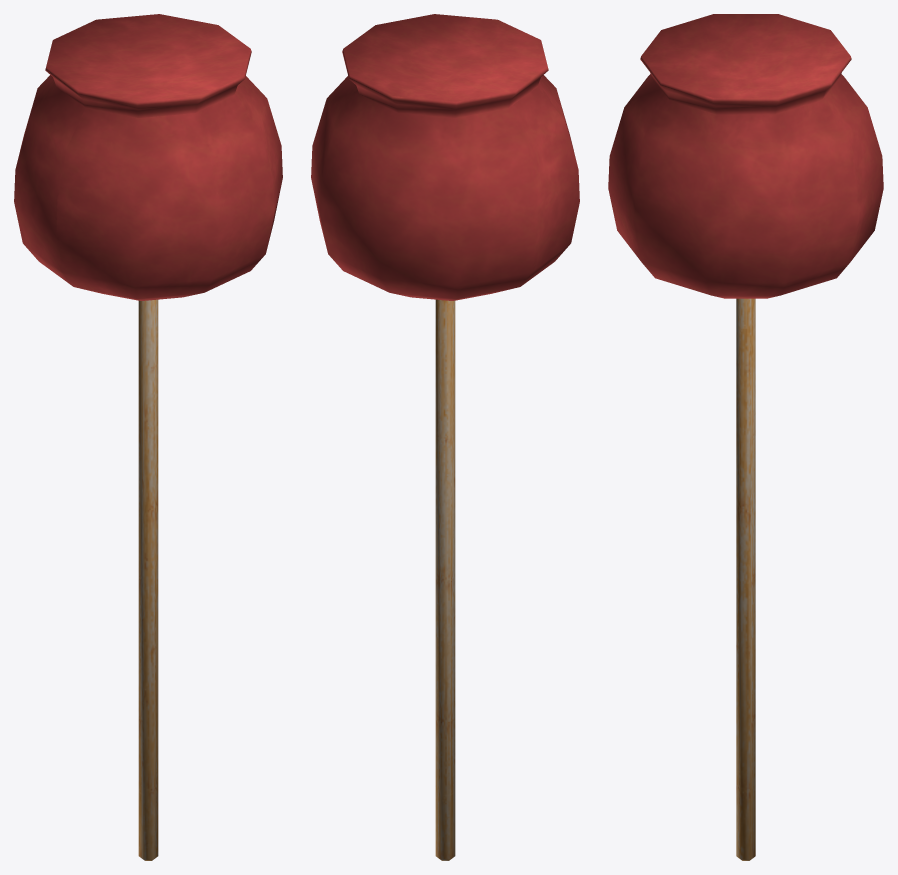
The model's file is FoodProp_D.fbx.
3 views of the same model, side by side, from view 1: azimuth 30°, elevation 25°; view 2: azimuth 150°, elevation 25°; view 3: azimuth 270°, elevation 25° (orthographic).
Parts seen in each view (by area): view 1: FoodProp_D; view 2: FoodProp_D; view 3: FoodProp_D.
Part boxes in pixels (x1,y1,x2,y2): FoodProp_D: (14, 14, 282, 860); FoodProp_D: (311, 14, 579, 860); FoodProp_D: (608, 14, 883, 860).
Bounding box in the file's own units: 0.128 × 0.4325 × 0.1346.
